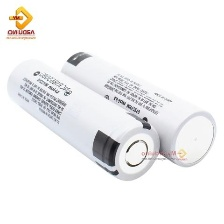battery: (5, 56, 162, 182), (58, 48, 219, 169)
